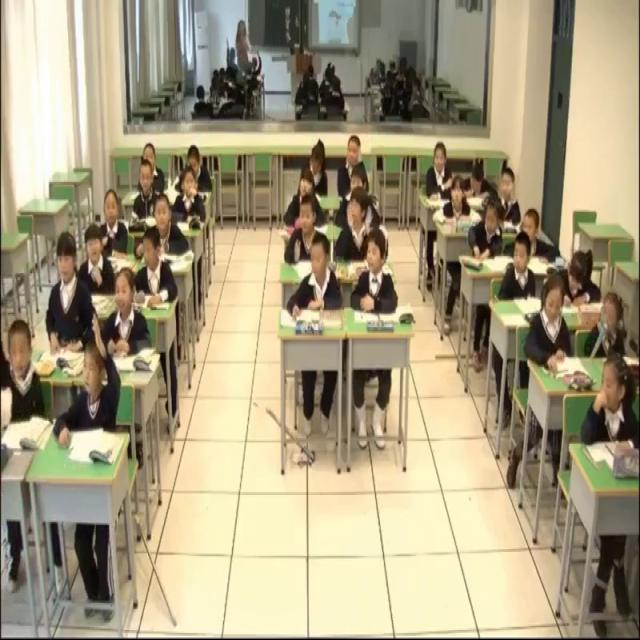distracted: (585, 355, 640, 448), (136, 226, 179, 307), (516, 207, 557, 268), (467, 197, 502, 260)
focused: (48, 236, 94, 355), (0, 314, 45, 429), (347, 233, 398, 319), (286, 236, 339, 314), (526, 274, 570, 365), (106, 269, 152, 347), (146, 192, 192, 261), (284, 195, 330, 263), (586, 286, 628, 358), (554, 248, 601, 310), (433, 176, 482, 230), (336, 192, 376, 257), (338, 164, 380, 225), (98, 179, 130, 259), (80, 228, 116, 298), (283, 167, 322, 229), (502, 233, 537, 299), (427, 136, 457, 202), (174, 166, 205, 226), (132, 162, 159, 225), (306, 140, 333, 193), (182, 148, 212, 192), (460, 160, 493, 199), (142, 144, 165, 194)
raising_hand: (52, 313, 125, 444), (339, 135, 374, 204), (493, 167, 523, 227)
